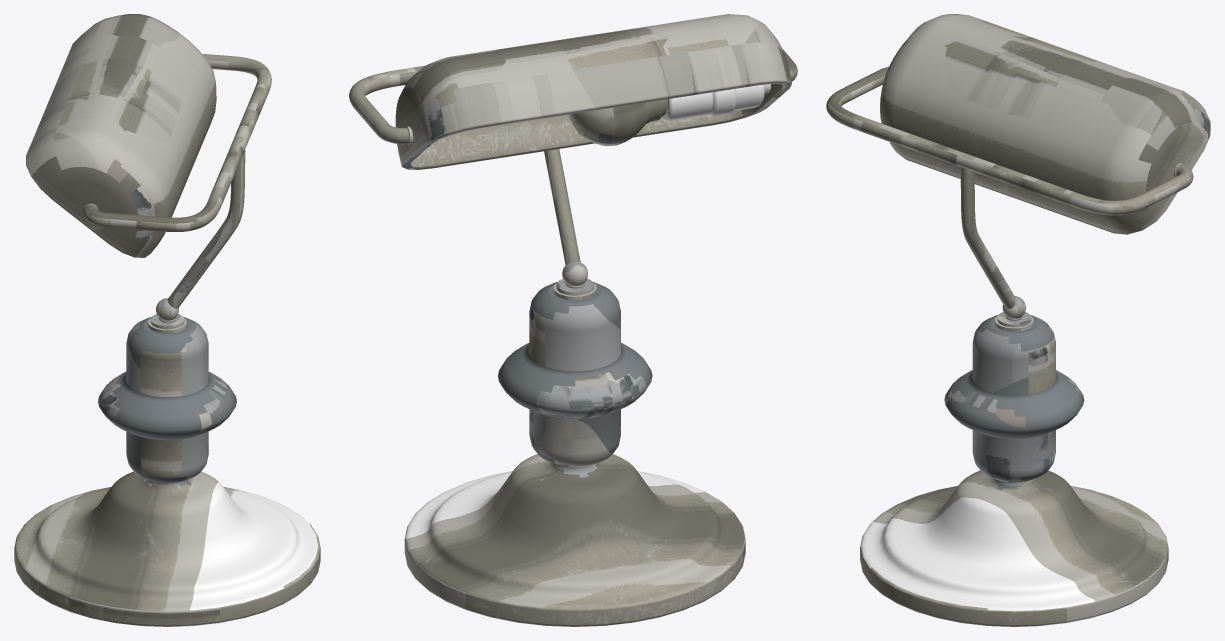
Rendered from Lamp.fbx.
3 views of the same model, side by side, from view 1: azimuth 30°, elevation 25°; view 2: azimuth 150°, elevation 25°; view 3: azimuth 270°, elevation 25° (orthographic). The views are drawn at different scales.
Parts seen in each view (by area): view 1: Lamp_2; view 2: Lamp_2; view 3: Lamp_2.
Boxes of the visible parts, left/top/right/bottom form: Lamp_2: left=14, top=14, right=320, bottom=626; Lamp_2: left=349, top=14, right=797, bottom=626; Lamp_2: left=826, top=14, right=1210, bottom=626.
Size of the model in its own units: 30.43 by 45.43 by 32.31.
